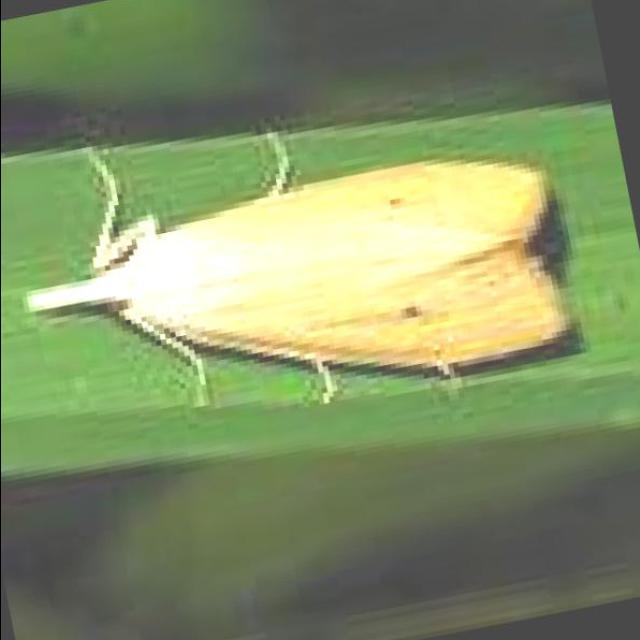stem borer: (27, 134, 573, 407)
